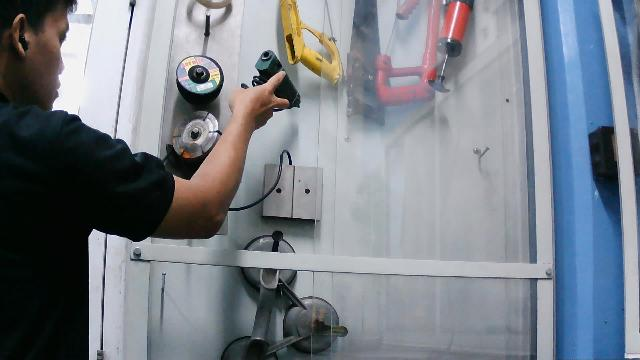gun_lem: (221, 39, 306, 120)
